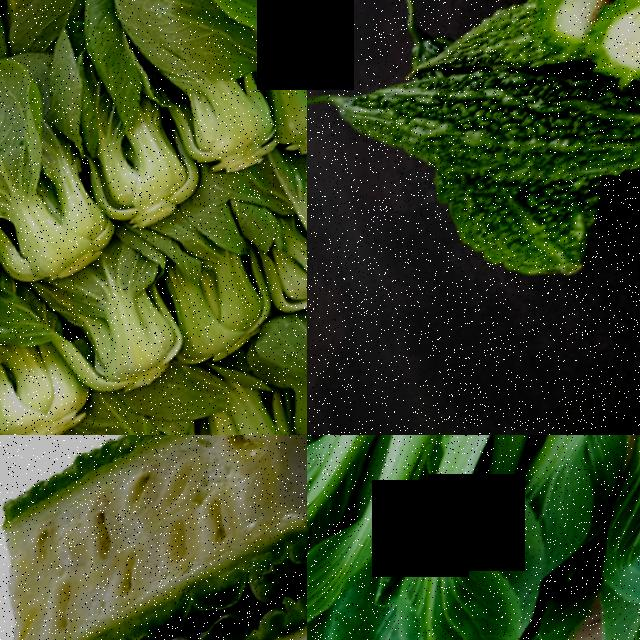bitter gourd: (0, 435, 307, 640), (0, 535, 307, 640), (433, 179, 594, 336), (331, 48, 498, 193), (473, 0, 605, 80)
bok choy: (307, 435, 568, 640), (30, 0, 206, 232), (466, 435, 640, 640), (0, 39, 128, 306), (111, 0, 283, 184), (56, 239, 199, 413), (139, 182, 277, 361), (0, 275, 132, 435), (183, 0, 307, 161), (225, 152, 307, 313), (192, 345, 305, 435), (105, 377, 235, 435), (255, 312, 307, 435), (289, 139, 307, 274)
